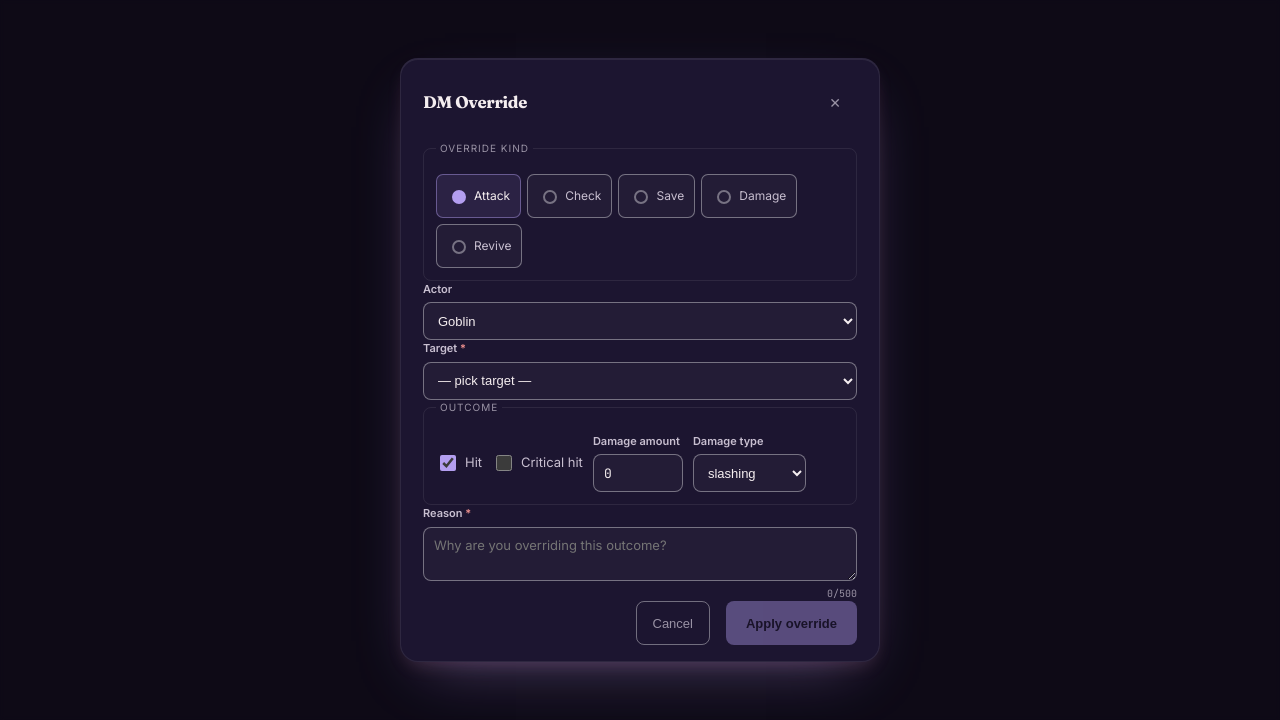
Test: derived New HP above 999 (target HP 1200) is refused with the ceiling message, nothing posted
Click the radio button labelled "Damage".
click(724, 197)  # box [717,190,731,204]
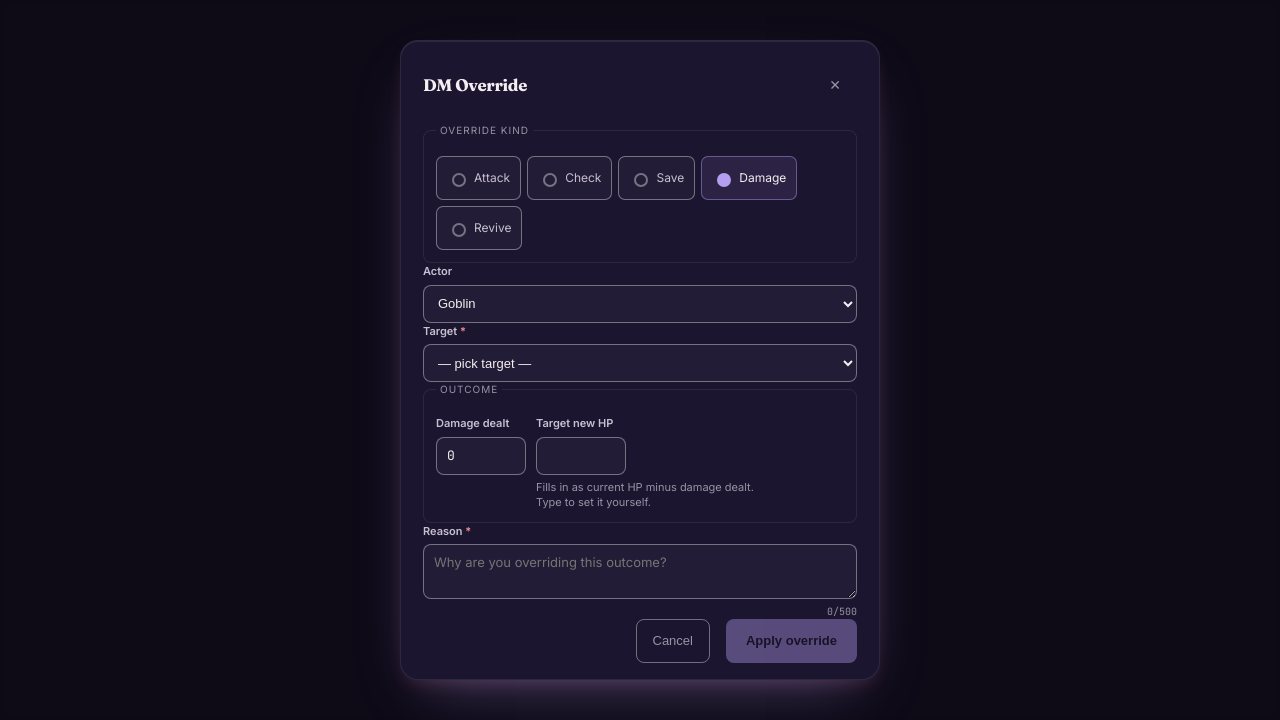
Select "Titan (HP 1200/30)" in the dropdown labelled "Target *" at (640, 364), box [423,344,857,382]
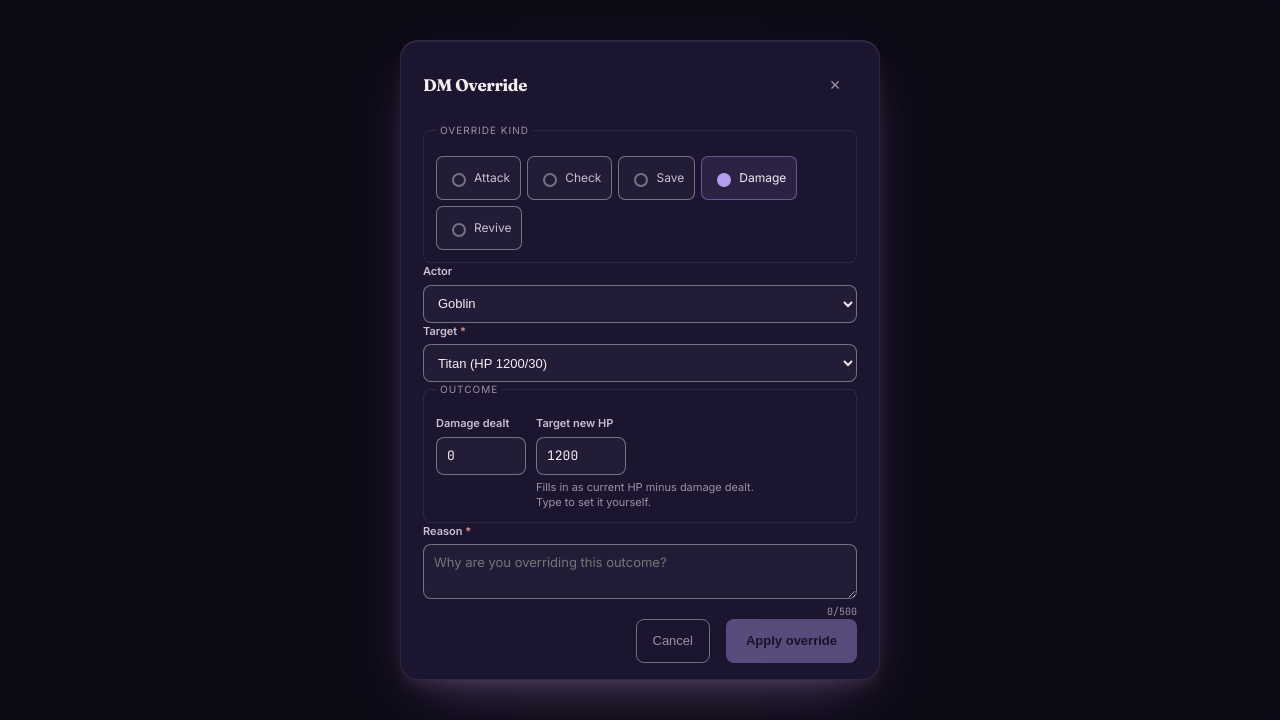
Type "ruling" into the text box labelled "Reason *".
click(640, 571); type("ruling")  # box [423,544,857,599]
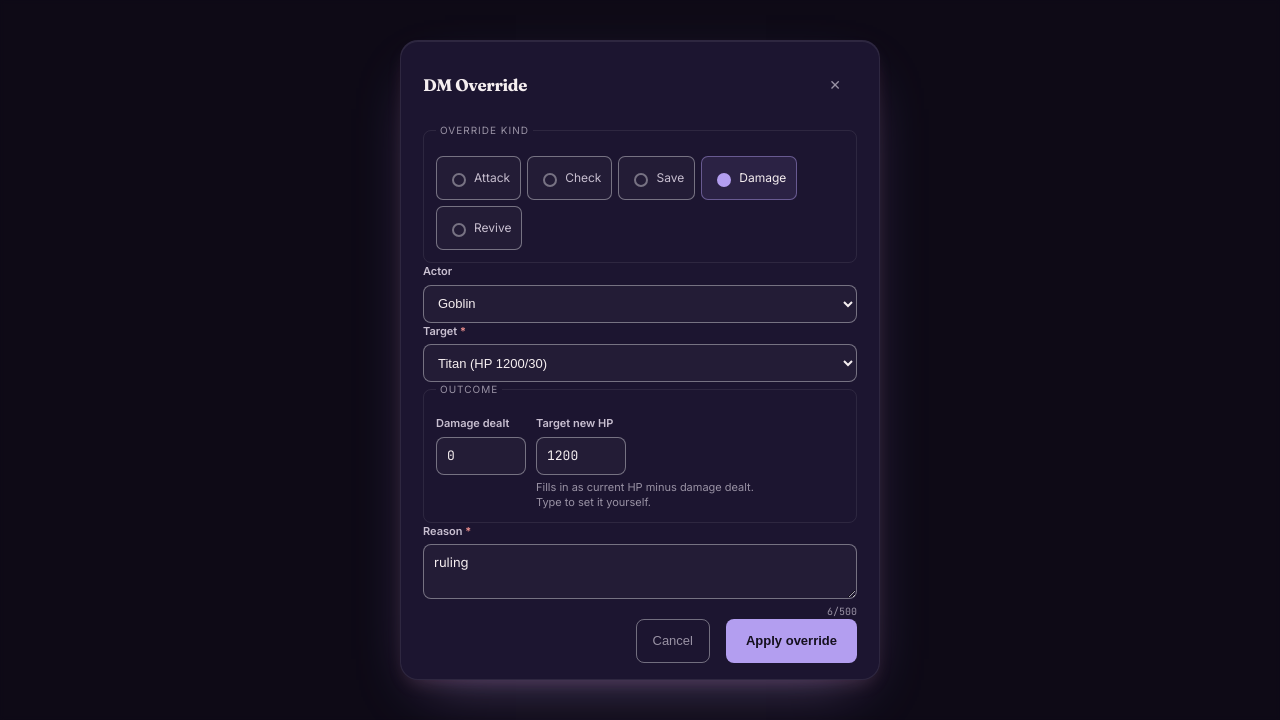
Check: the number field labelled "Target new HP" holds "1200", box [536,437,626,475]
Click the button "Apply override".
click(792, 640)  # box [726,618,857,662]
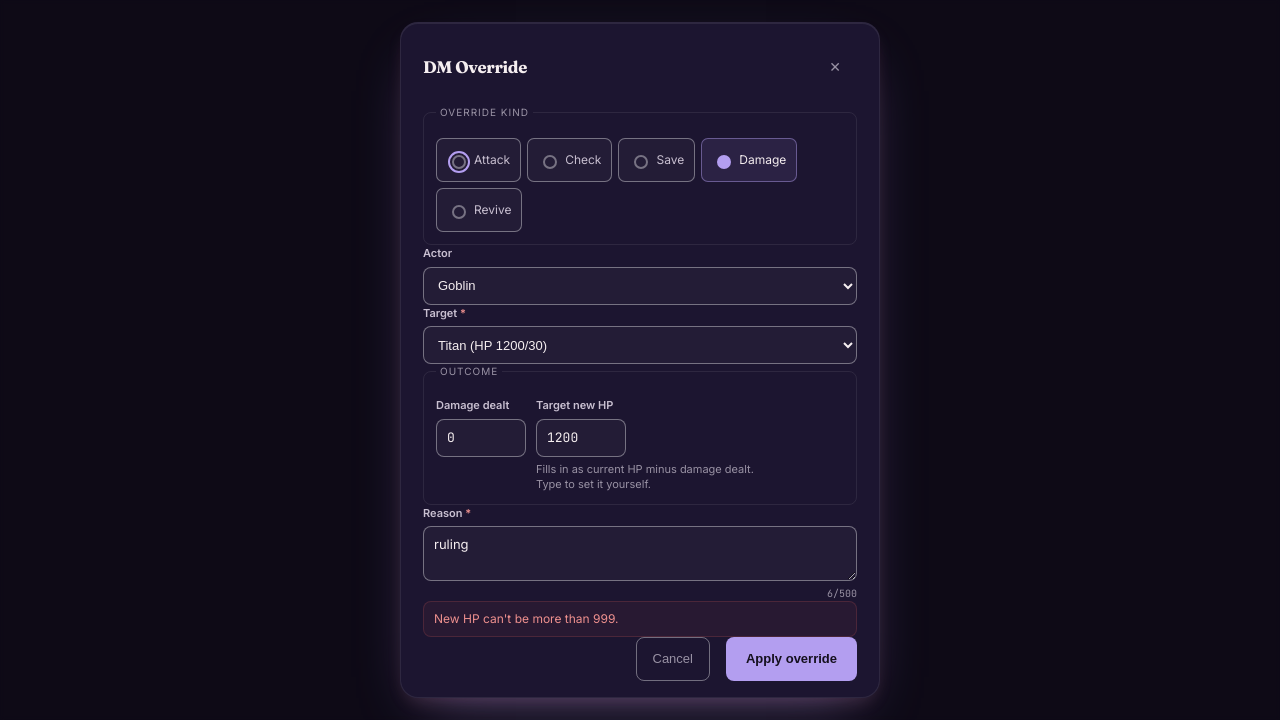
Check: the message shows "more than 999", box [434,610,618,626]
